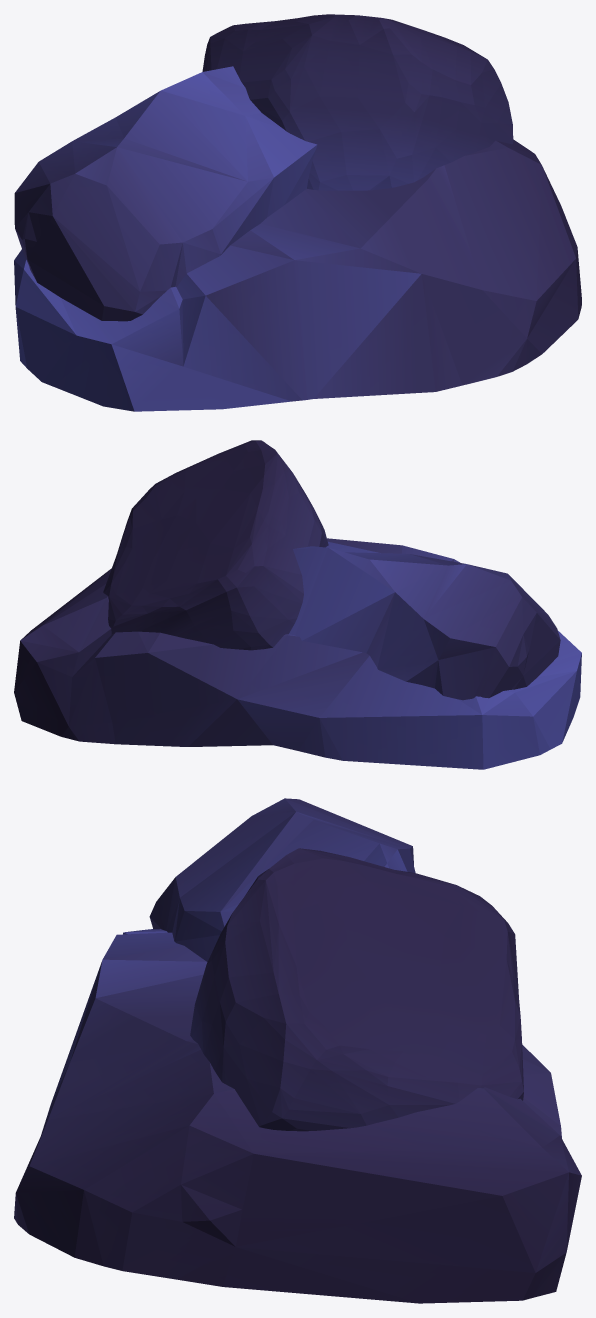
File: Rock_01.fbx
3 renders of one model, top to bottom at view 1: azimuth 30°, elevation 25°; view 2: azimuth 150°, elevation 25°; view 3: azimuth 270°, elevation 25°, orthographic. The views are drawn at different scales.
Visible parts, largest first — view 1: Floating_Rock_1_Big_0_1.073; view 2: Floating_Rock_1_Big_0_1.073; view 3: Floating_Rock_1_Big_0_1.073.
Part boxes in pixels (x1=…): Floating_Rock_1_Big_0_1.073: x1=14, y1=14, x2=581, y2=411; Floating_Rock_1_Big_0_1.073: x1=14, y1=440, x2=581, y2=769; Floating_Rock_1_Big_0_1.073: x1=14, y1=798, x2=581, y2=1303.
Size of the model in its own units: 804 by 475 by 639.
